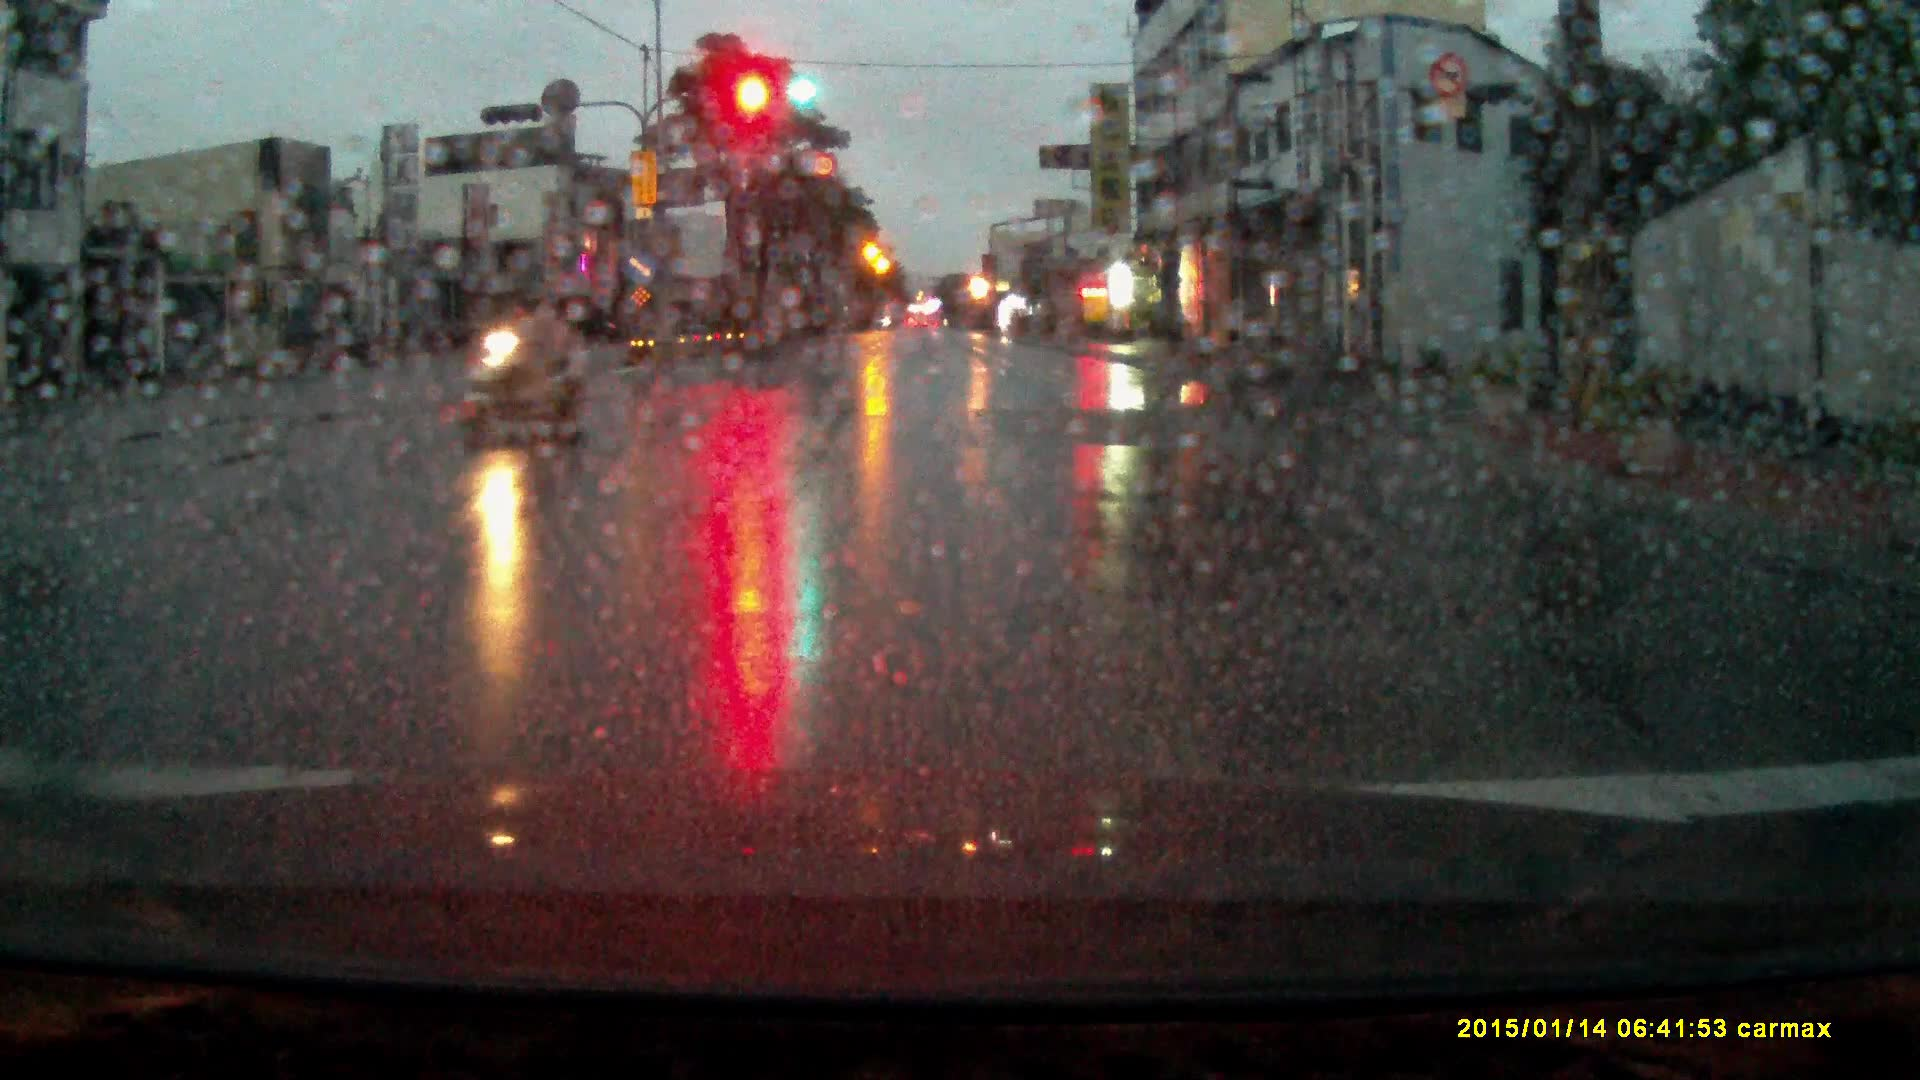rider: (456, 266, 588, 443)
